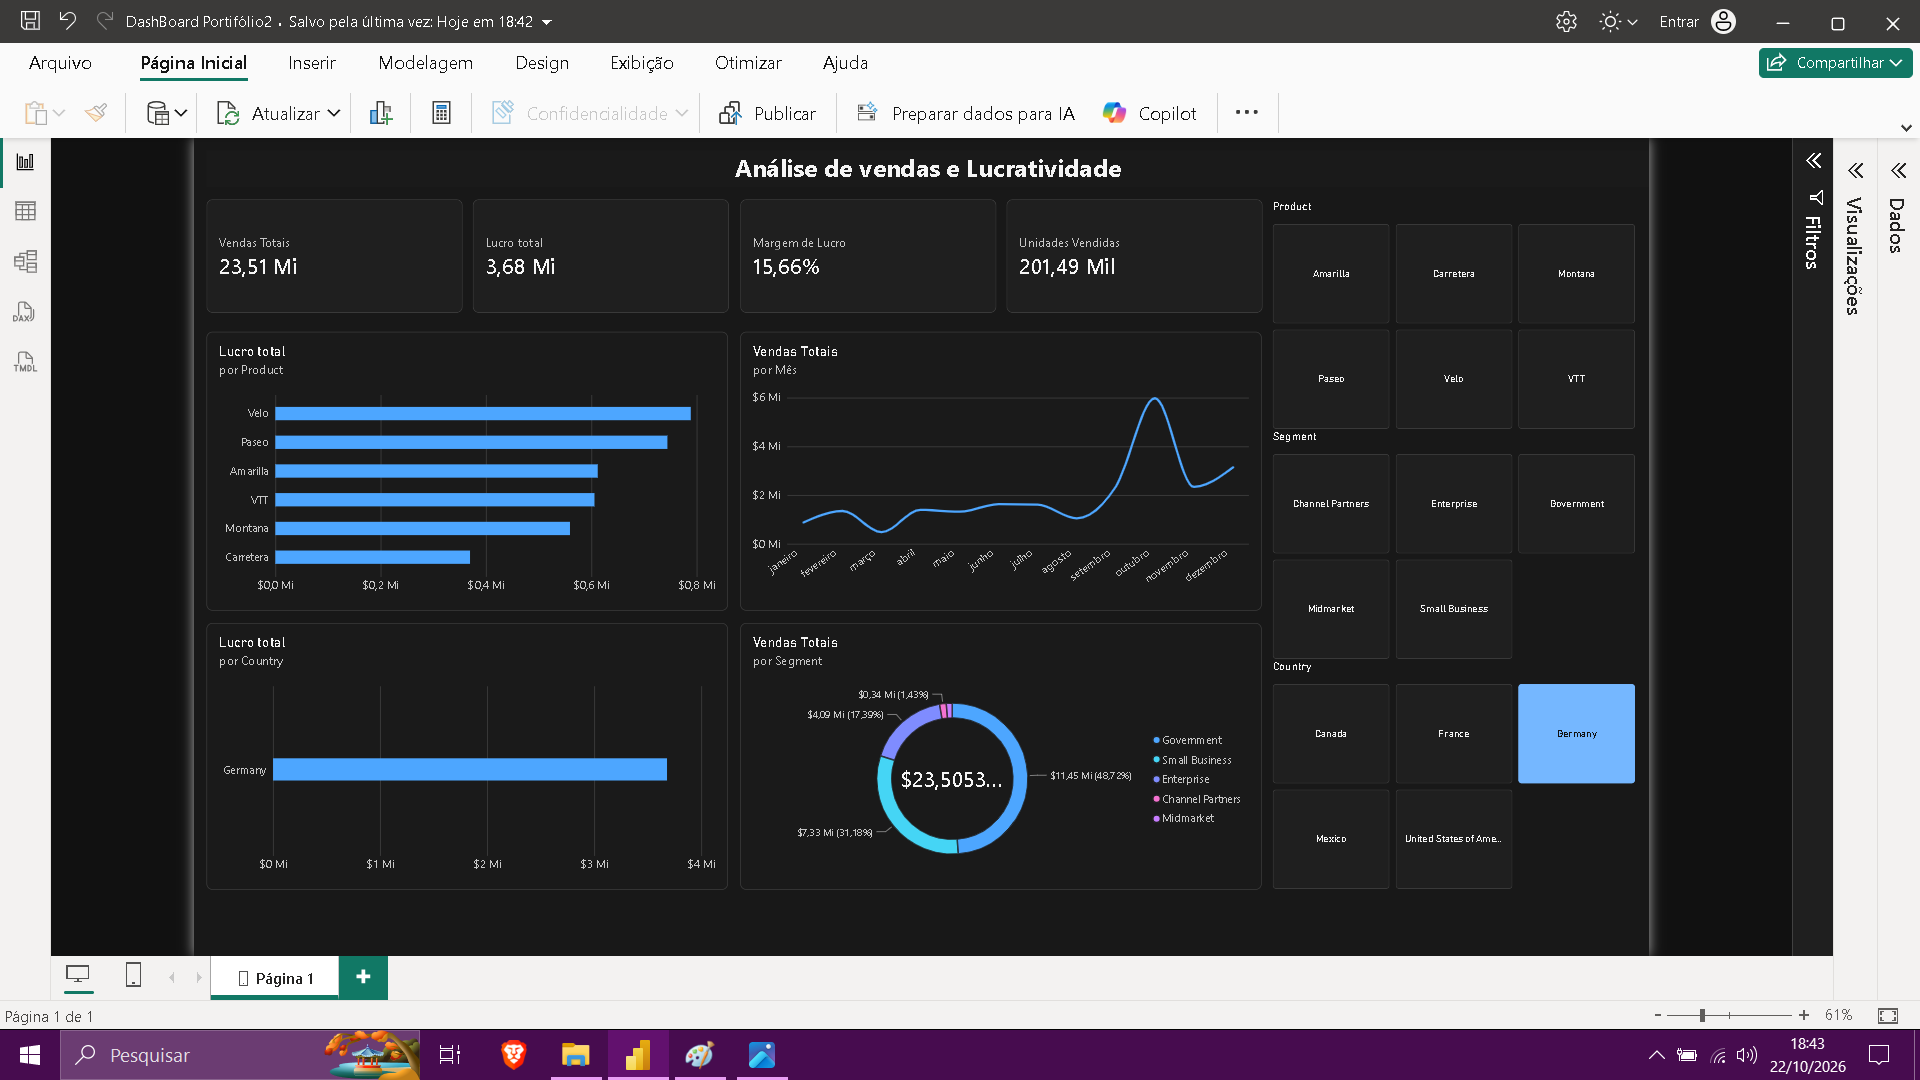

What the dashboard file says about the page in this screenshot:
{"tool":"powerbi","page":{"name":"Página 1","canvas":[1920,1080],"ordinal":0},"visuals":[{"type":"textbox","box":[16,16,1904,48],"z":0},{"type":"cardVisual","fields":{"Data":["financials.Vendas Totais"]},"box":[16,80,338.5,150.3],"z":1000},{"type":"cardVisual","fields":{"Data":["financials.Lucro total"]},"box":[368,80,338.5,150.3],"z":2000},{"type":"cardVisual","fields":{"Data":["financials.Margem de Lucro"]},"box":[720,80,338.5,150.3],"z":3000},{"type":"cardVisual","fields":{"Data":["financials.Unidades Vendidas"]},"box":[1072,80,338.5,150.3],"z":4000},{"type":"lineChart","fields":{"Category":["financials.Date.Variação.Hierarquia de datas.Ano","financials.Date.Variação.Hierarquia de datas.Trimestre","financials.Date.Variação.Hierarquia de datas.Mês","financials.Date.Variação.Hierarquia de datas.Dia"],"Y":["financials.Vendas Totais"]},"box":[720,256,688,368],"z":5000},{"type":"clusteredBarChart","fields":{"Category":["financials.Product"],"Y":["financials.Lucro total"]},"box":[16,256,688,368],"z":6000},{"type":"donutChart","fields":{"Category":["financials.Segment"],"Y":["financials.Vendas Totais"]},"box":[720,640,688,352],"z":7000},{"type":"clusteredBarChart","fields":{"Category":["financials.Country"],"Y":["financials.Lucro total"]},"box":[16,640,688,352],"z":8000},{"type":"advancedSlicerVisual","fields":{"Values":["financials.Country"]},"box":[1424,688,480,304],"z":9000},{"type":"advancedSlicerVisual","fields":{"Values":["financials.Segment"]},"box":[1424,384,480,304],"z":10000},{"type":"advancedSlicerVisual","fields":{"Values":["financials.Product"]},"box":[1424,80,480,304],"z":11000}]}

Visuals, with their boxes on the page's 1920x1080 design canvas (x1, y1, x2, y2). These are canvas units, not pixel positions in the 1920x1080 screenshot, which may show the page scaled, cropped or inside an application window:
textbox: bbox=[16, 16, 1920, 64]
cardVisual - financials.Vendas Totais: bbox=[16, 80, 354, 230]
cardVisual - financials.Lucro total: bbox=[368, 80, 706, 230]
cardVisual - financials.Margem de Lucro: bbox=[720, 80, 1058, 230]
cardVisual - financials.Unidades Vendidas: bbox=[1072, 80, 1410, 230]
lineChart - financials.Date.Variação.Hierarquia de datas.Ano x financials.Date.Variação.Hierarquia de datas.Trimestre: bbox=[720, 256, 1408, 624]
clusteredBarChart - financials.Product x financials.Lucro total: bbox=[16, 256, 704, 624]
donutChart - financials.Segment x financials.Vendas Totais: bbox=[720, 640, 1408, 992]
clusteredBarChart - financials.Country x financials.Lucro total: bbox=[16, 640, 704, 992]
advancedSlicerVisual - financials.Country: bbox=[1424, 688, 1904, 992]
advancedSlicerVisual - financials.Segment: bbox=[1424, 384, 1904, 688]
advancedSlicerVisual - financials.Product: bbox=[1424, 80, 1904, 384]
